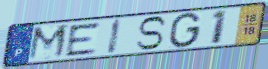1: (210, 8, 227, 46)
E: (65, 21, 102, 58)
G: (167, 11, 203, 49)
I: (106, 18, 124, 55)
M: (25, 23, 71, 63)
S: (134, 15, 169, 52)
